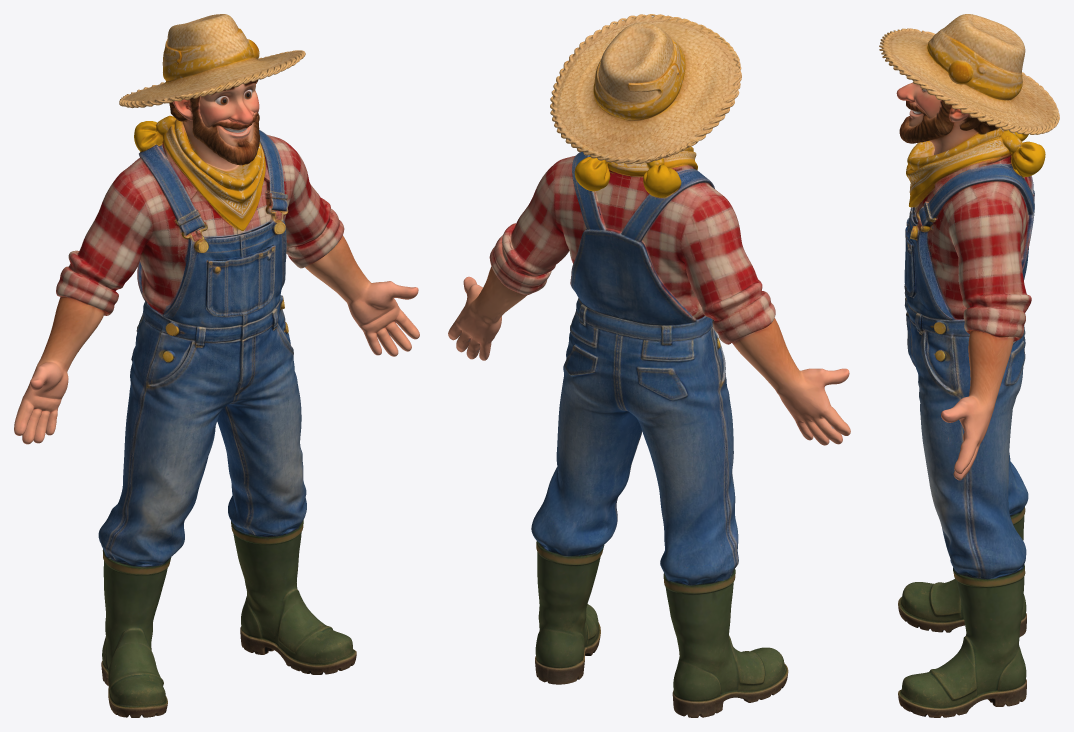
3 renders of one model, left to right at view 1: azimuth 30°, elevation 25°; view 2: azimuth 150°, elevation 25°; view 3: azimuth 270°, elevation 25°, orthographic.
Parts seen in each view (by area): view 1: farmer; view 2: farmer; view 3: farmer.
Part boxes in pixels (x1,y1,x2,y2): farmer: [14, 14, 419, 717]; farmer: [448, 14, 850, 717]; farmer: [879, 14, 1059, 717].
Size of the model in its own units: 1.22 by 1.9 by 0.4815.
1 material, 1 textured.
